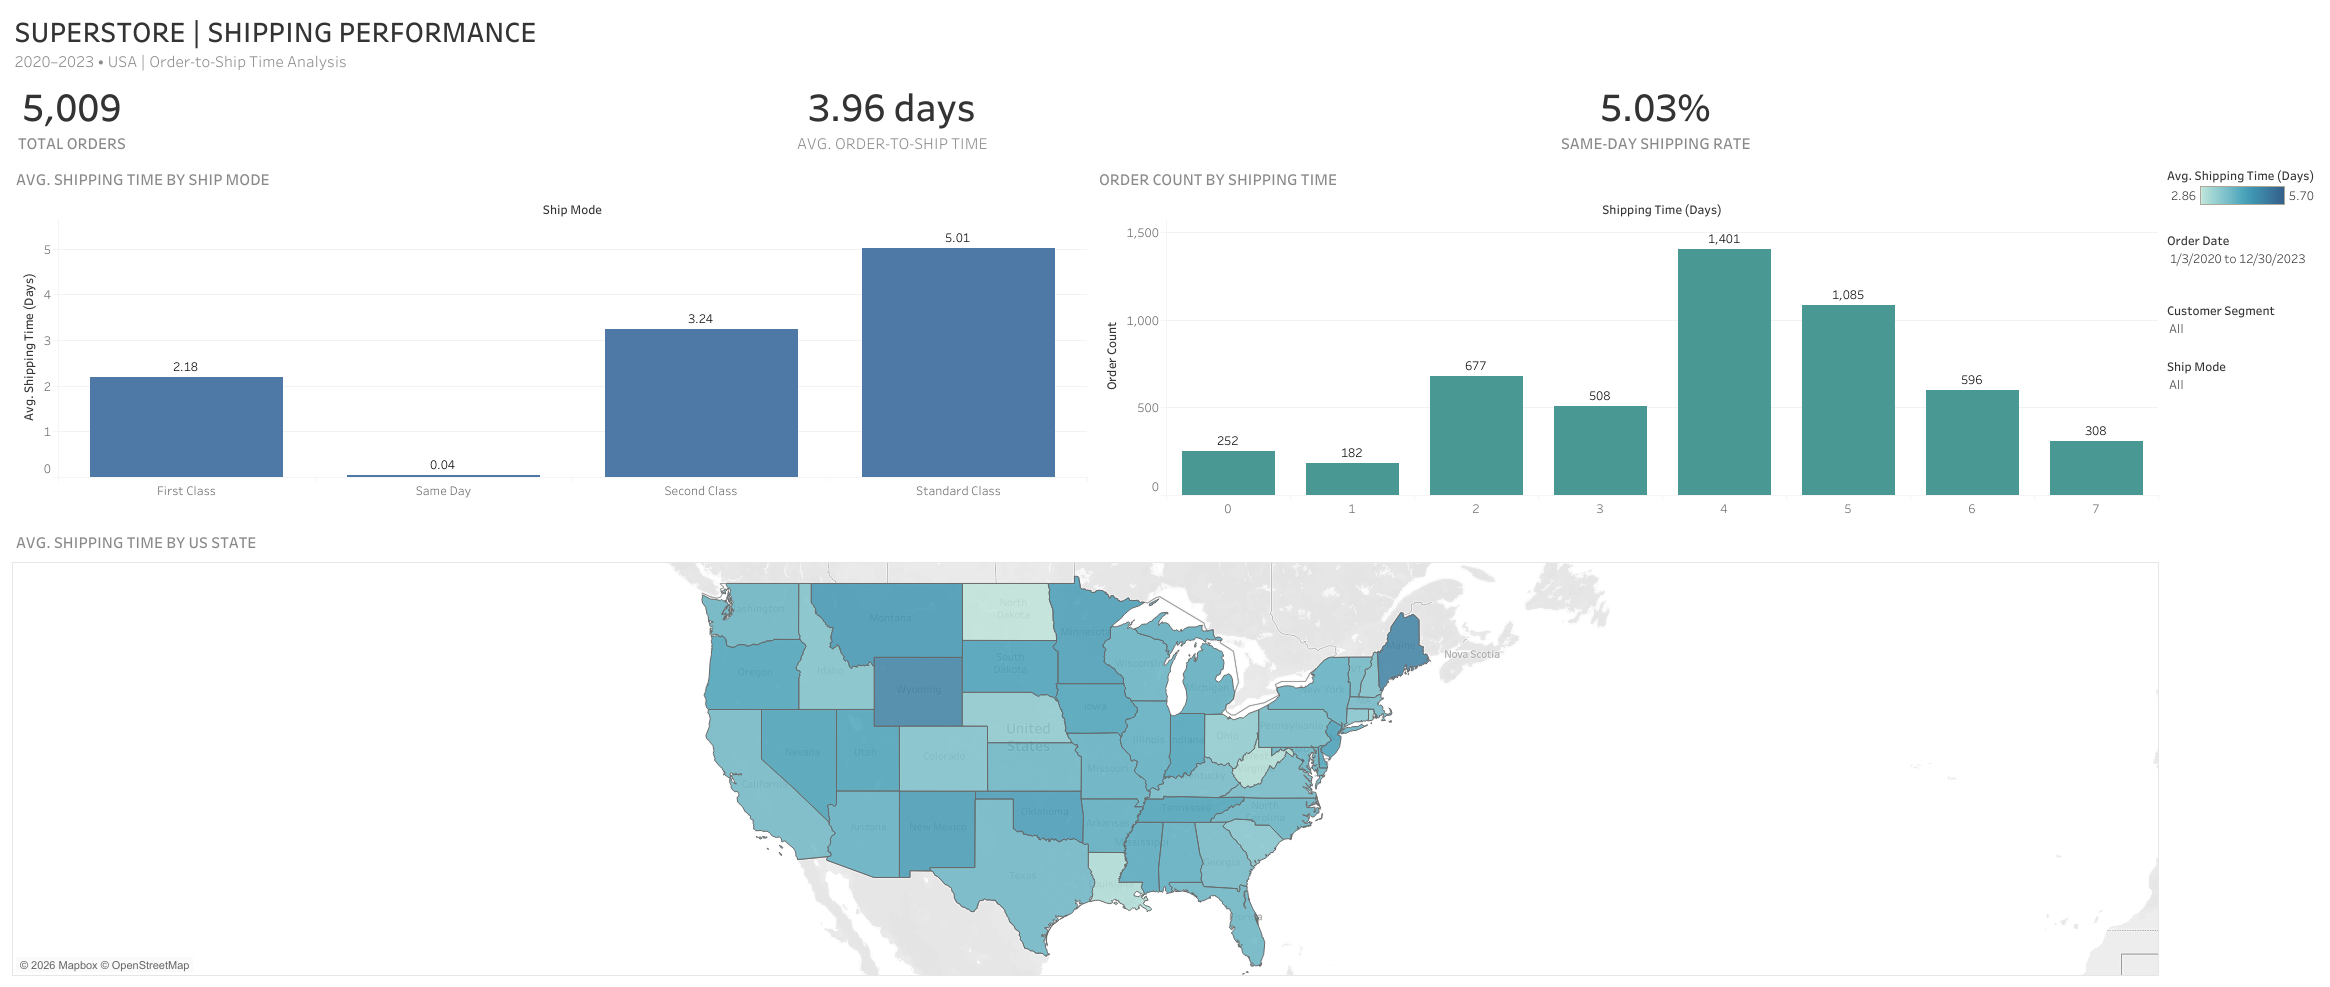

Layout of this report page (visuals, bound fields, positions):
{"tool":"tableau","page":{"name":"Shipping Performance","canvas":[1000,1000],"units":"permille","ordinal":0},"visuals":[{"type":"title","box":[4.7,8.9,990.6,73.7]},{"type":"worksheet","title":"KPI - Total Orders","mark":"Automatic","box":[4.7,82.6,330.6,89.3]},{"type":"worksheet","title":"KPI - Avg. Shipping Time","mark":"Automatic","box":[335.3,82.6,330,89.3]},{"type":"worksheet","title":"KPI - Same-Day Shipping Rate","mark":"Automatic","box":[665.3,82.6,330,89.3]},{"type":"worksheet","title":"Average Shipping Time","mark":"Bar","rows":["Calculation_1435470231302145"],"cols":["Ship Mode"],"box":[4.7,171.9,450.7,361.5]},{"type":"worksheet","title":"Shipping Time Distribution","mark":"Bar","rows":["Calculation_1435470233374722"],"cols":["Calculation_1435470231302145"],"box":[455.4,171.9,446.3,361.5]},{"type":"legend","title":"Shipping Time Map","param":"[federated.0zi65kx16o8t3w103k19x1b4ld2j].[avg:Calculation_1435470231302145:qk]","box":[901.7,171.9,93.6,72.5]},{"type":"filter","title":"Average Shipping Time","param":"[federated.0zi65kx16o8t3w103k19x1b4ld2j].[none:Order Date:qk]","box":[901.7,244.4,93.6,77]},{"type":"filter","title":"Average Shipping Time","param":"[federated.0zi65kx16o8t3w103k19x1b4ld2j].[none:Segment:nk]","box":[901.7,321.4,93.6,58]},{"type":"filter","title":"Average Shipping Time","param":"[federated.0zi65kx16o8t3w103k19x1b4ld2j].[none:Ship Mode:nk]","box":[901.7,379.5,93.6,58]},{"type":"worksheet","title":"Shipping Time Map","mark":"Automatic","box":[4.7,533.4,897,457.7]}]}

Visuals, with their boxes on the dashboard's canvas, which has no fixed pixel size, in thousandths of its width and height (x1, y1, x2, y2). These are canvas units, not pixel positions in the 2330x987 screenshot, which may show the page scaled, cropped or inside an application window:
title: 5 9 995 83
"KPI - Total Orders" worksheet: 5 83 335 172
"KPI - Avg. Shipping Time" worksheet: 335 83 665 172
"KPI - Same-Day Shipping Rate" worksheet: 665 83 995 172
"Average Shipping Time" worksheet (Bar marks): 5 172 455 533
"Shipping Time Distribution" worksheet (Bar marks): 455 172 902 533
"Shipping Time Map" legend: 902 172 995 244
"Average Shipping Time" filter: 902 244 995 321
"Average Shipping Time" filter: 902 321 995 379
"Average Shipping Time" filter: 902 380 995 438
"Shipping Time Map" worksheet: 5 533 902 991
